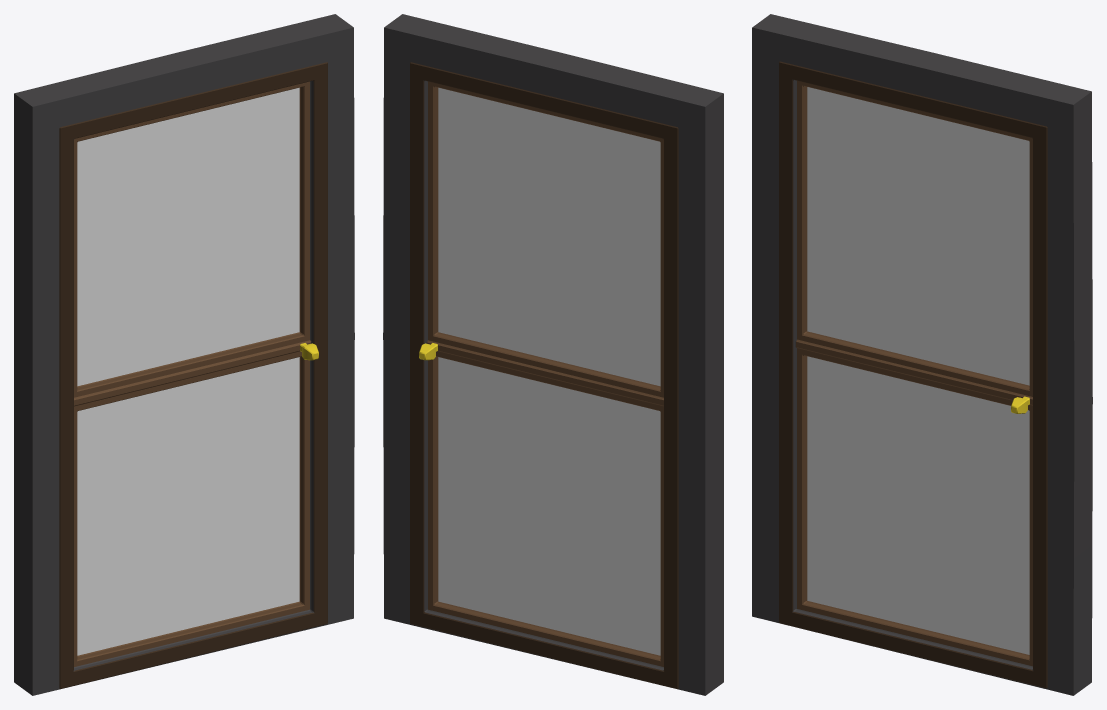
The model's file is SINGLEDOOR.fbx.
The picture shows the model from 3 angles, left to right: view 1: azimuth 30°, elevation 25°; view 2: azimuth 150°, elevation 25°; view 3: azimuth 330°, elevation 25°; orthographic projection.
Parts seen in each view (by area): view 1: Door, BasicDoor; view 2: Door, BasicDoor; view 3: Door, BasicDoor.
Part boxes in pixels (x1,y1,x2,y2): Door: (59, 62, 327, 689); BasicDoor: (14, 14, 354, 695); Door: (410, 62, 678, 689); BasicDoor: (383, 14, 723, 695); Door: (779, 61, 1047, 688); BasicDoor: (752, 14, 1092, 695).
Size of the model in its own units: 120 by 25.59 by 210.
3 materials, 1 textured.
